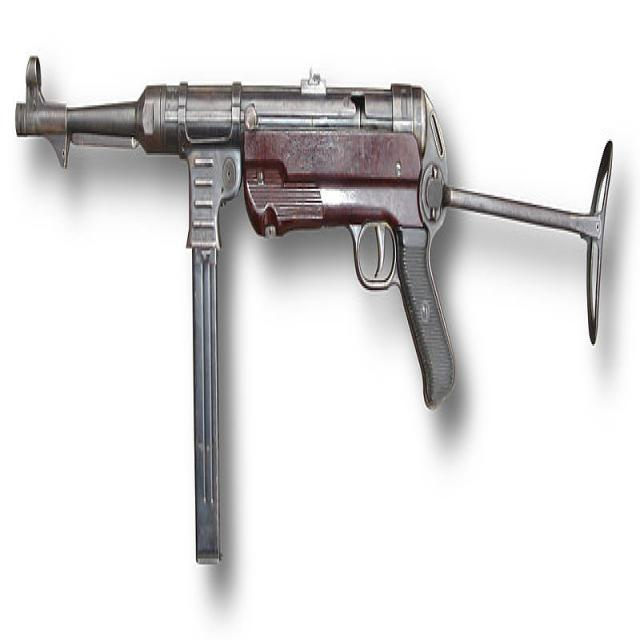SMG: (14, 56, 616, 568)
